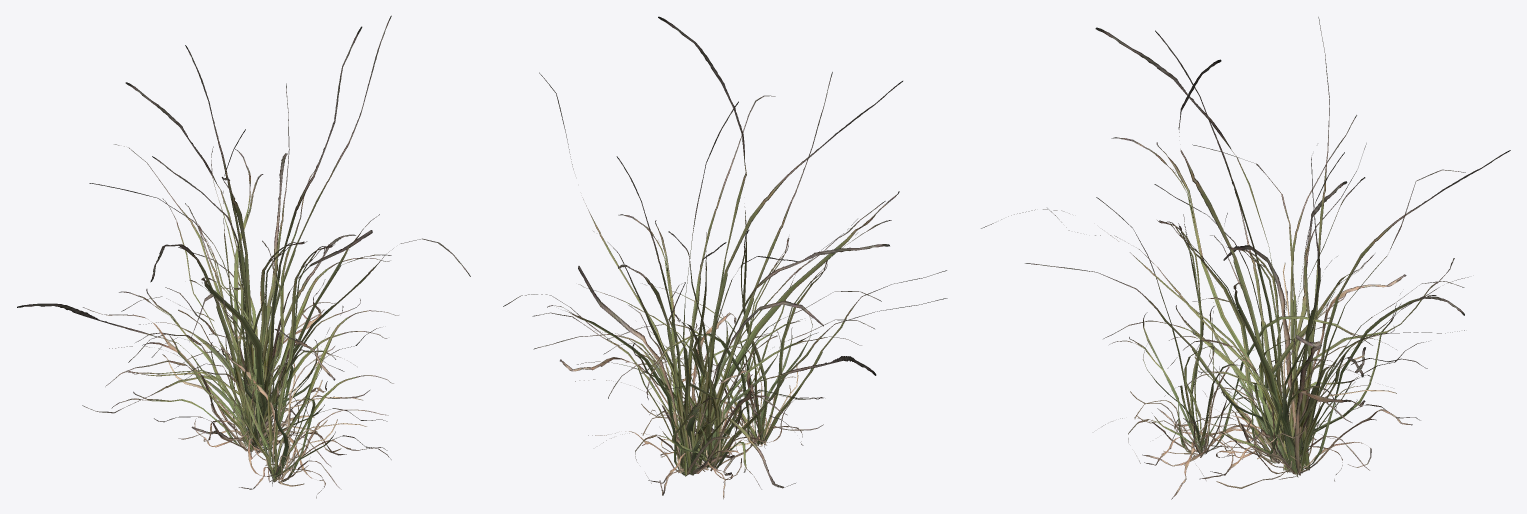
Rendered from grass_clump.glb.
The picture shows the model from 3 angles, left to right: view 1: azimuth 30°, elevation 25°; view 2: azimuth 150°, elevation 25°; view 3: azimuth 270°, elevation 25°; orthographic projection. The views are drawn at different scales.
Parts seen in each view (by area): view 1: v2, v1, v0; view 2: v2, v1, v0; view 3: v2, v1, v0.
Part boxes in pixels (x1,y1,x2,y2): v2: (17, 15, 470, 465); v1: (105, 146, 390, 487); v0: (184, 240, 398, 498); v2: (503, 16, 902, 495); v1: (533, 219, 947, 499); v0: (607, 206, 946, 448); v2: (981, 17, 1510, 477); v1: (1025, 177, 1464, 488); v0: (1096, 197, 1396, 499).
Bounding box in the file's own units: 0.3556 × 0.4033 × 0.4332.
1 material, 1 textured.
